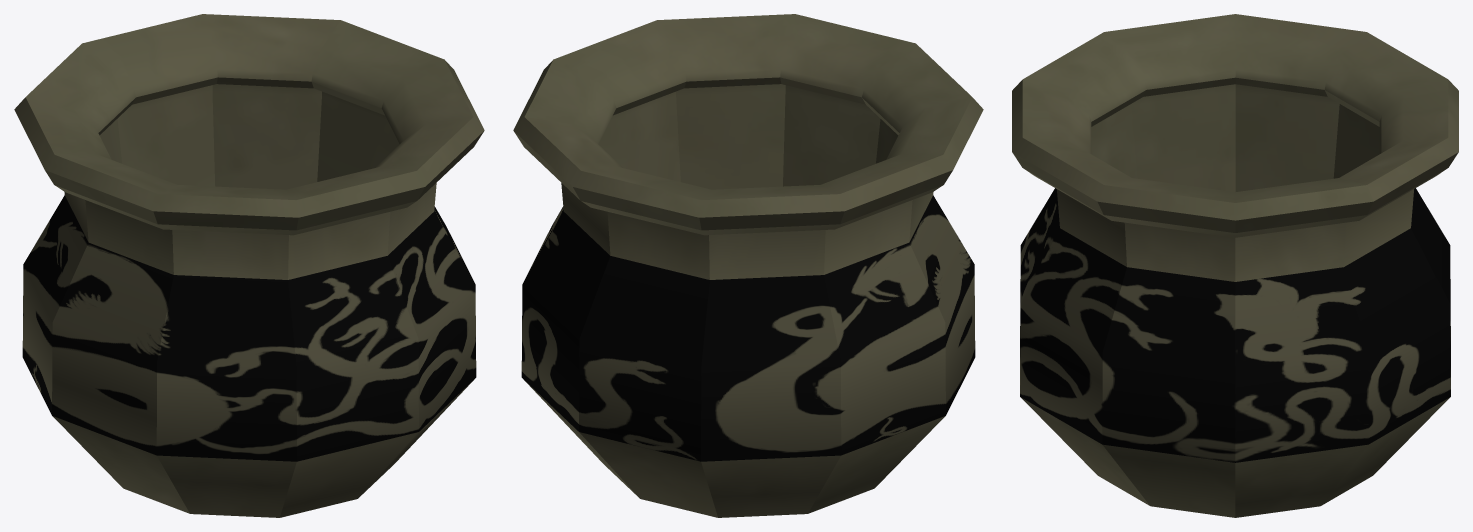
The model's file is SM_Vase2.fbx.
3 views of the same model, side by side, from view 1: azimuth 30°, elevation 25°; view 2: azimuth 150°, elevation 25°; view 3: azimuth 270°, elevation 25° (orthographic).
Parts seen in each view (by area): view 1: Vase2; view 2: Vase2; view 3: Vase2.
Boxes of the visible parts, x1,y1,x2,y2 form: Vase2: [14, 14, 484, 517]; Vase2: [513, 14, 983, 517]; Vase2: [1012, 14, 1458, 517].
Size of the model in its own units: 2.27 by 1.85 by 2.15.
